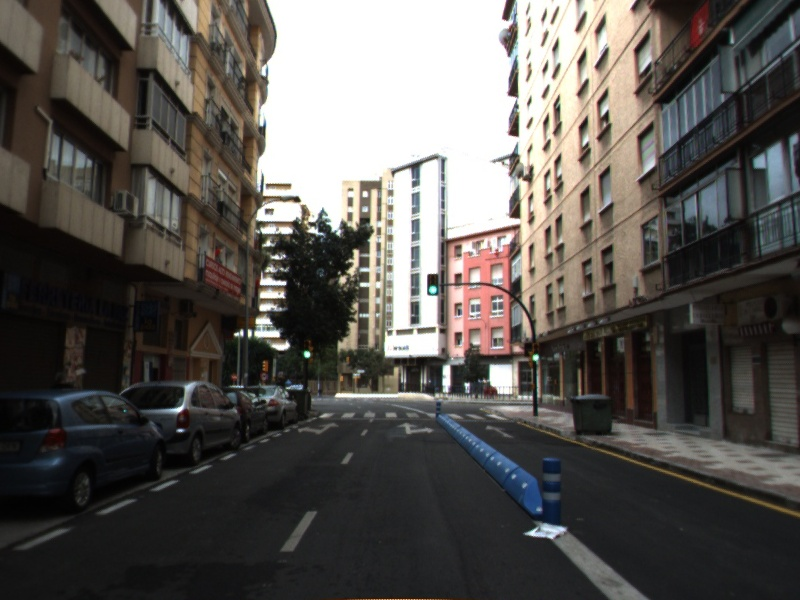STRAIGHT: (484, 424, 515, 439)
STRAIGHT_LEFT: (296, 420, 341, 436)
STRAIGHT_RIGHT: (395, 421, 436, 436)
